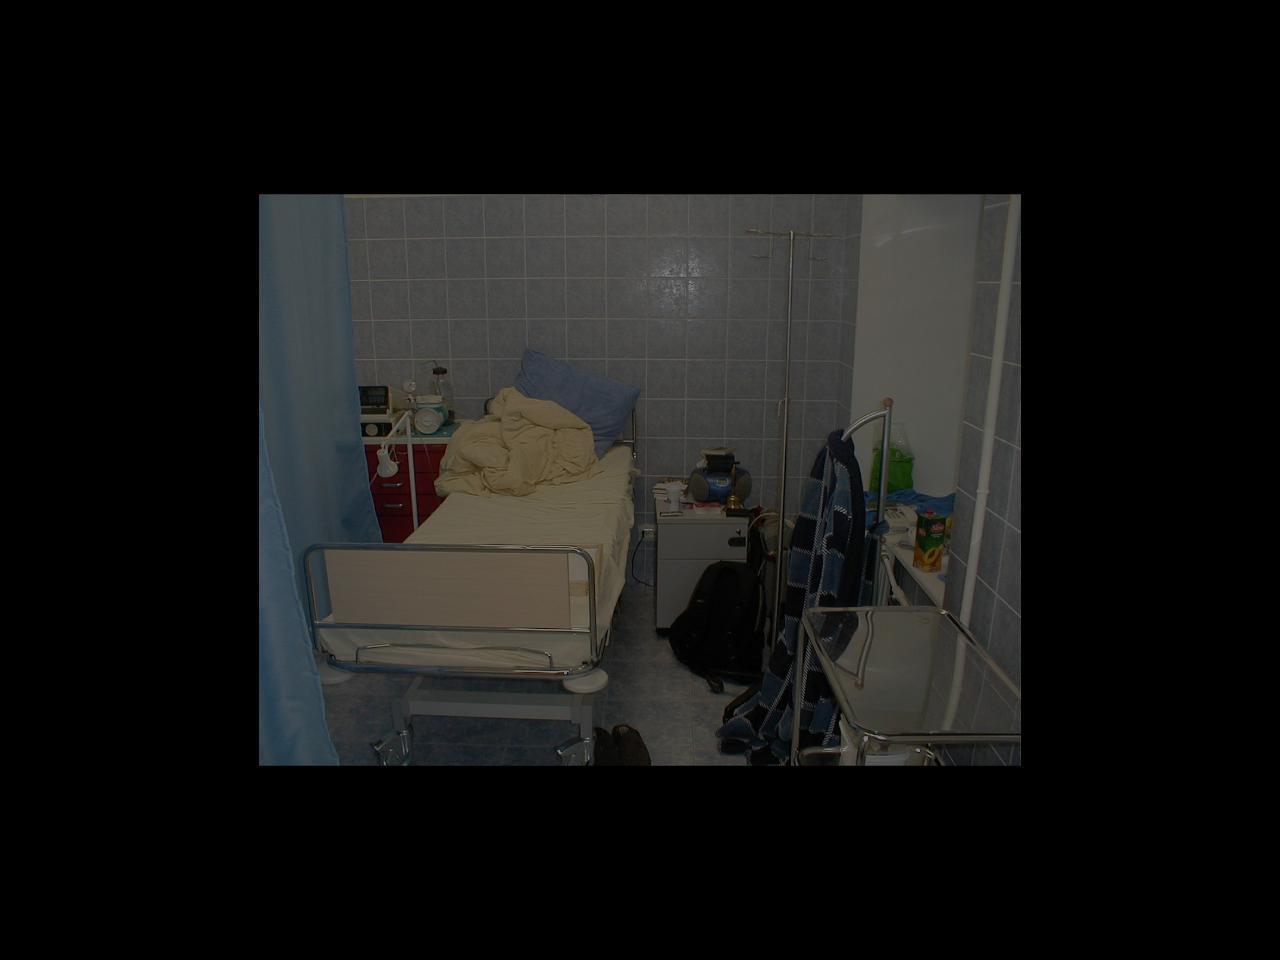Otro Obstaculo: (674, 546, 763, 694)
